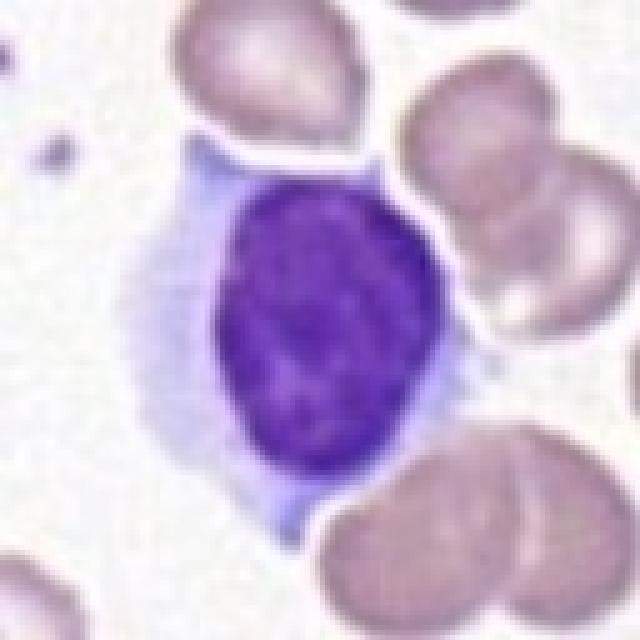lympho: (119, 124, 464, 570)
